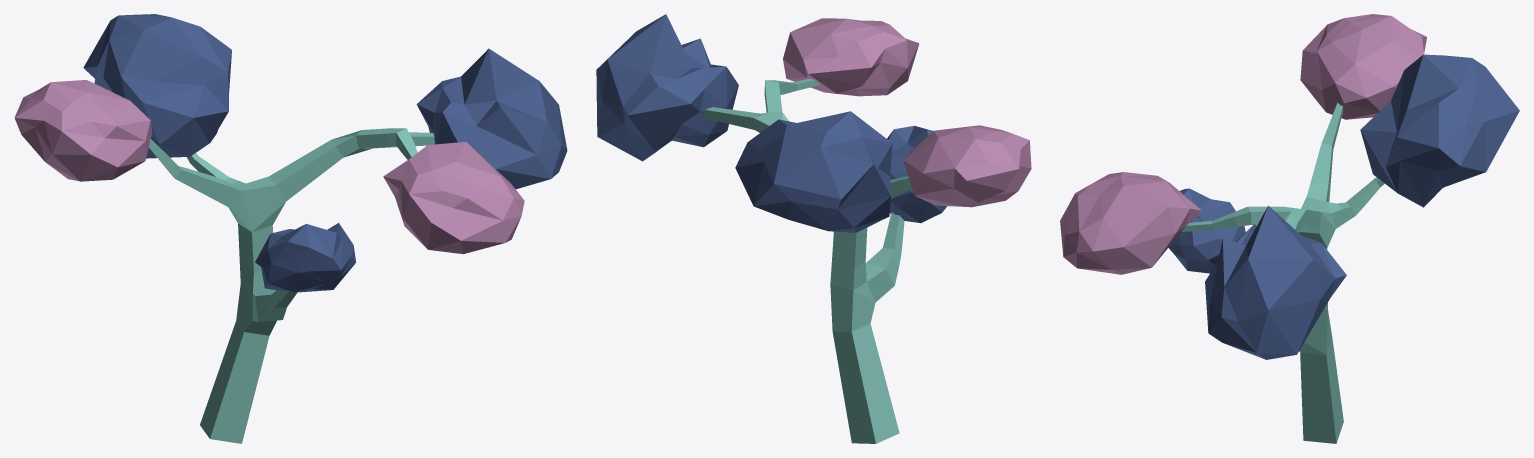
File: arbol03.fbx
3 views of the same model, side by side, from view 1: azimuth 30°, elevation 25°; view 2: azimuth 150°, elevation 25°; view 3: azimuth 270°, elevation 25° (orthographic). The views are drawn at different scales.
Visible parts, largest first — view 1: arbol03, arbol03 Hojas03, arbol03 Hojas05, arbol03 Hojas04, arbol03 Hojas01, arbol03 Hojas02; view 2: arbol03 Hojas03, arbol03 Hojas05, arbol03, arbol03 Hojas04, arbol03 Hojas01, arbol03 Hojas02; view 3: arbol03 Hojas03, arbol03 Hojas05, arbol03 Hojas04, arbol03, arbol03 Hojas01, arbol03 Hojas02.
Boxes of the visible parts, x1,y1,x2,y2 form: arbol03: (149,128,434,443); arbol03 Hojas03: (83,14,231,158); arbol03 Hojas05: (416,48,567,189); arbol03 Hojas04: (383,142,524,254); arbol03 Hojas01: (14,80,152,181); arbol03 Hojas02: (255,223,356,292); arbol03 Hojas03: (735,111,892,232); arbol03 Hojas05: (596,14,738,161); arbol03: (704,78,911,443); arbol03 Hojas04: (783,18,919,96); arbol03 Hojas01: (903,125,1031,207); arbol03 Hojas02: (887,125,947,223); arbol03 Hojas03: (1360,54,1519,207); arbol03 Hojas05: (1205,205,1346,359); arbol03 Hojas04: (1060,172,1201,274); arbol03: (1181,102,1384,443); arbol03 Hojas01: (1300,14,1426,119); arbol03 Hojas02: (1168,188,1245,273).
Size of the model in its own units: 1950 by 1443 by 1631.
